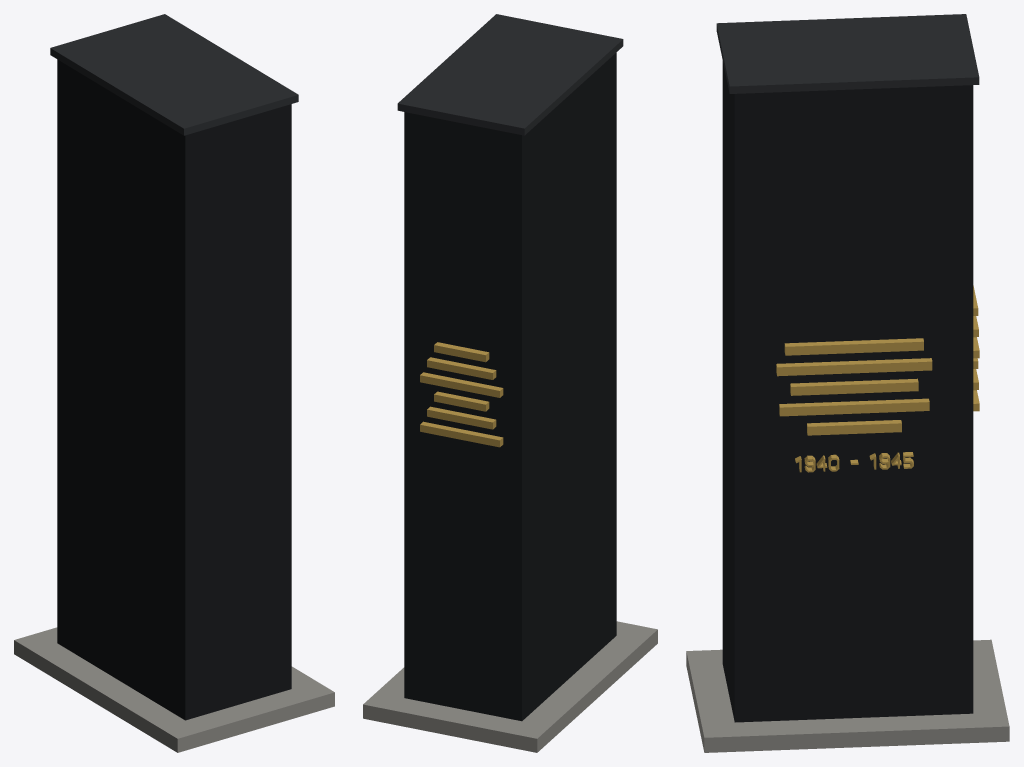
Rendered from joods-verzetsmonument.glb.
3 renders of one model, left to right at view 1: azimuth 30°, elevation 25°; view 2: azimuth 150°, elevation 25°; view 3: azimuth 270°, elevation 25°, orthographic. The views are drawn at different scales.
Visible parts, largest first — view 1: joods-verzetsmonument; view 2: joods-verzetsmonument; view 3: joods-verzetsmonument.
Boxes of the visible parts, x1=… form: joods-verzetsmonument: x1=14, y1=14, x2=334, y2=752; joods-verzetsmonument: x1=363, y1=14, x2=657, y2=752; joods-verzetsmonument: x1=686, y1=14, x2=1009, y2=752.
Size of the model in its own units: 0.8332 by 2.59 by 1.16.
